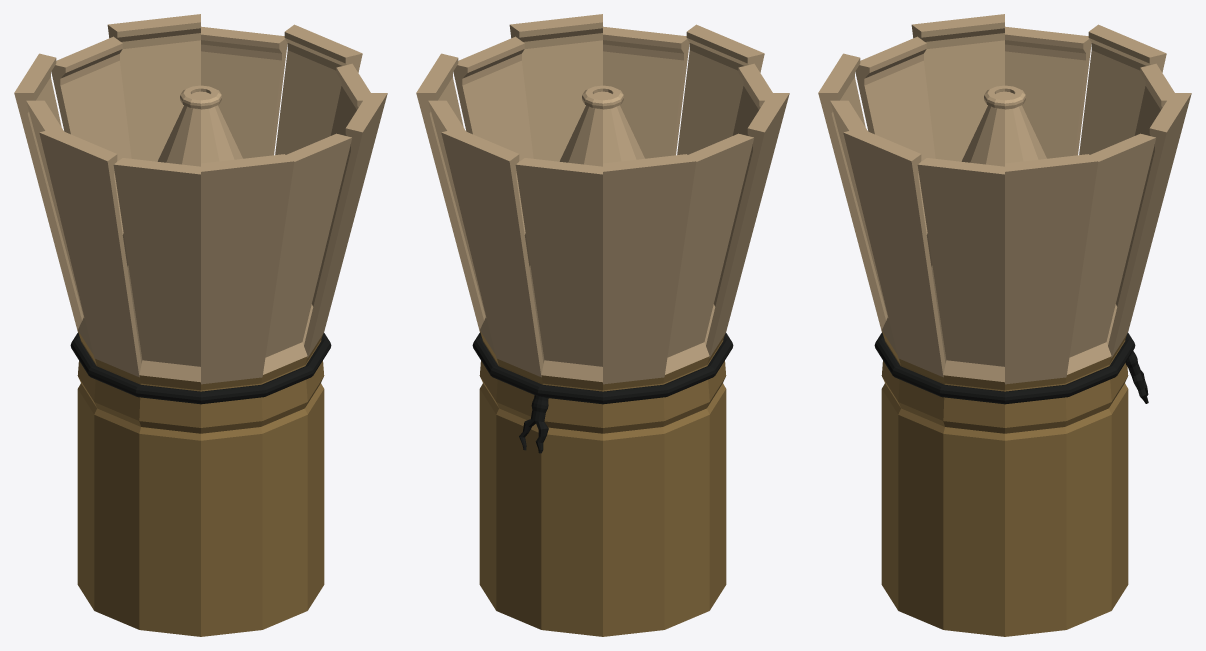
Rendered from TT_Japanese_whisk.fbx.
The picture shows the model from 3 angles, left to right: view 1: azimuth 30°, elevation 25°; view 2: azimuth 150°, elevation 25°; view 3: azimuth 270°, elevation 25°; orthographic projection.
Visible parts, largest first — view 1: Whisk; view 2: Whisk; view 3: Whisk.
Boxes of the visible parts, bbox=[...] form: Whisk: bbox=[14, 14, 387, 636]; Whisk: bbox=[416, 14, 789, 636]; Whisk: bbox=[818, 14, 1191, 636].
Size of the model in its own units: 2.41 by 3.51 by 2.41.
